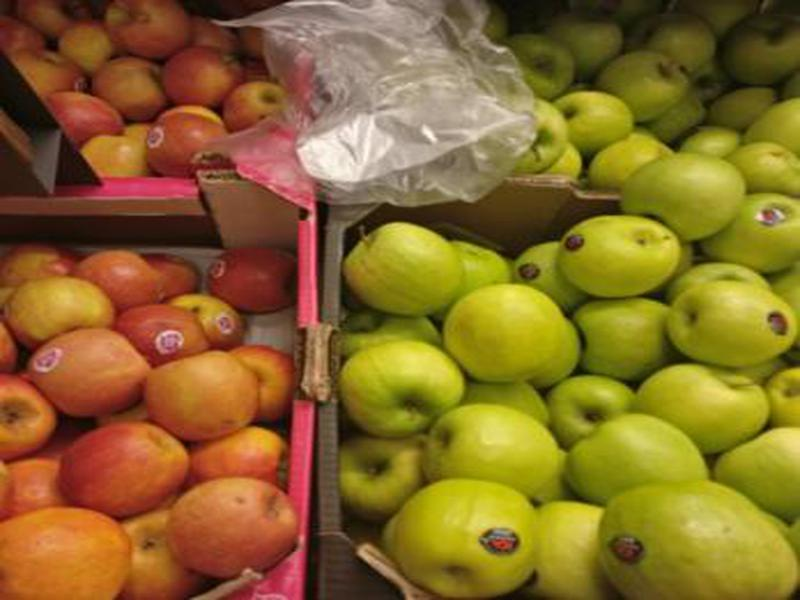green apple: (592, 478, 797, 600), (379, 473, 551, 596), (559, 417, 722, 512), (438, 283, 581, 388), (628, 356, 776, 454), (424, 408, 569, 504), (554, 206, 686, 305), (342, 341, 468, 439), (666, 279, 797, 371), (342, 218, 468, 313), (619, 150, 750, 240), (569, 298, 700, 375), (531, 500, 626, 600), (339, 434, 440, 525), (713, 429, 800, 526), (596, 40, 694, 122), (707, 191, 800, 276), (547, 375, 642, 451), (720, 13, 800, 86), (544, 10, 624, 82), (554, 90, 638, 153), (628, 14, 719, 71), (500, 32, 576, 100), (586, 134, 676, 191), (512, 241, 585, 307), (339, 308, 444, 353), (444, 239, 512, 299), (724, 145, 800, 198), (514, 101, 566, 176), (704, 85, 779, 136), (740, 94, 800, 149), (668, 1, 756, 38), (679, 127, 749, 159), (763, 367, 800, 427), (526, 144, 582, 182)
